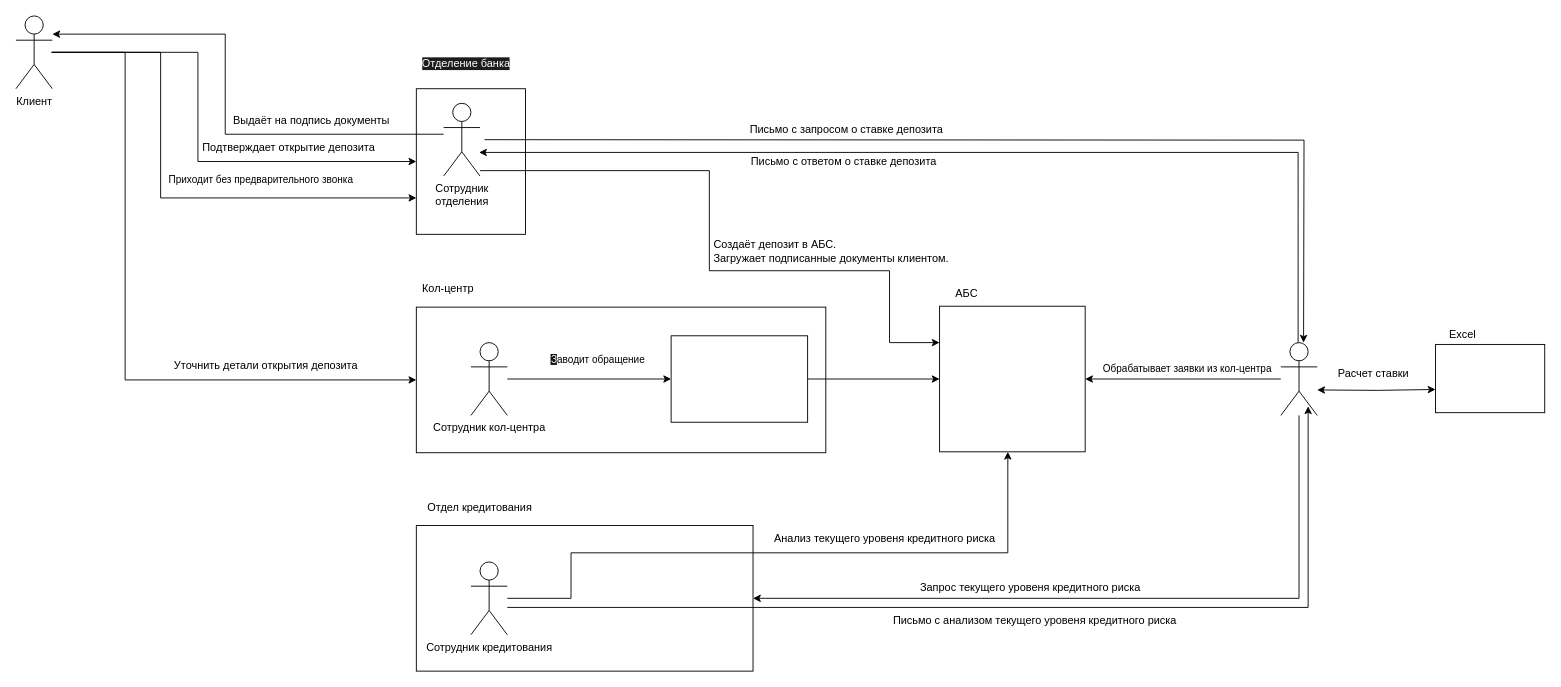
Image size: 1561x687. Some labels were removed from this diagram. Each missing label, with the box of its shape:
Системе кол-центра: (670, 335, 808, 422)
Сотрудники депозитов: (1280, 342, 1317, 415)
